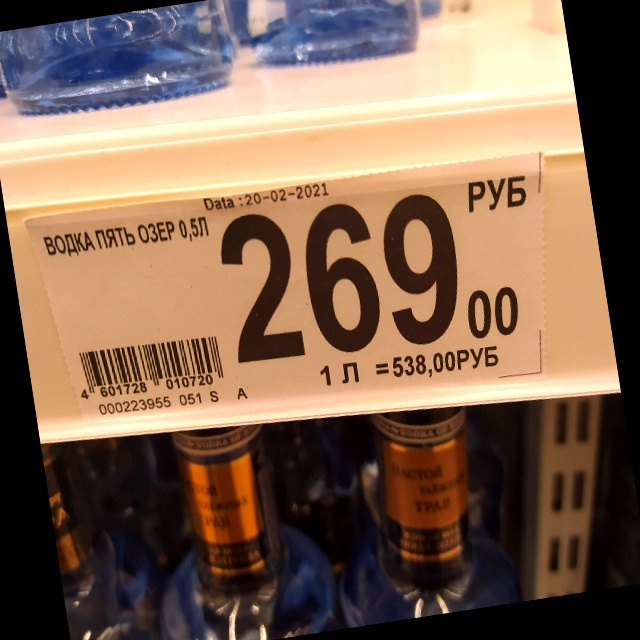barcode: (77, 335, 225, 402)
name: (41, 213, 213, 261)
price: (215, 188, 521, 368)
price_tag: (22, 154, 542, 422)
